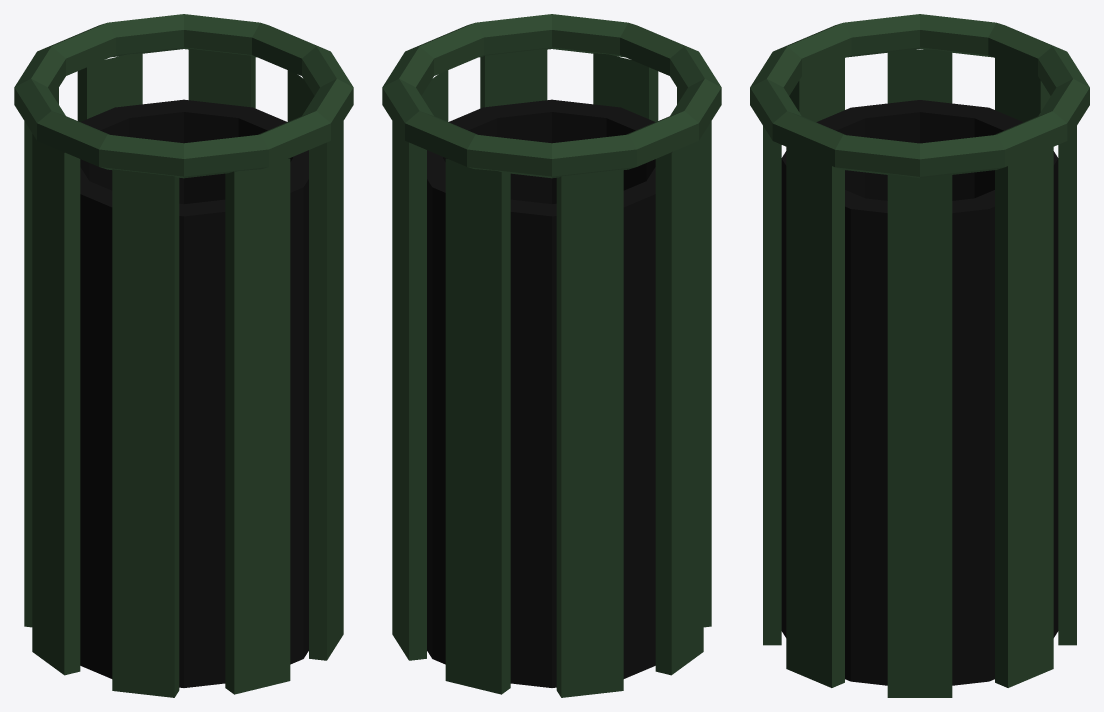
3 renders of one model, left to right at view 1: azimuth 30°, elevation 25°; view 2: azimuth 150°, elevation 25°; view 3: azimuth 270°, elevation 25°, orthographic.
Visible parts, largest first — view 1: Trash_01; view 2: Trash_01; view 3: Trash_01.
Boxes of the visible parts, box(x1,y1,x2,y2) form: Trash_01: box(14, 14, 353, 697); Trash_01: box(382, 14, 721, 697); Trash_01: box(750, 14, 1089, 697).
Size of the model in its own units: 0.3434 by 0.6163 by 0.3434.
1 material, 1 textured.
